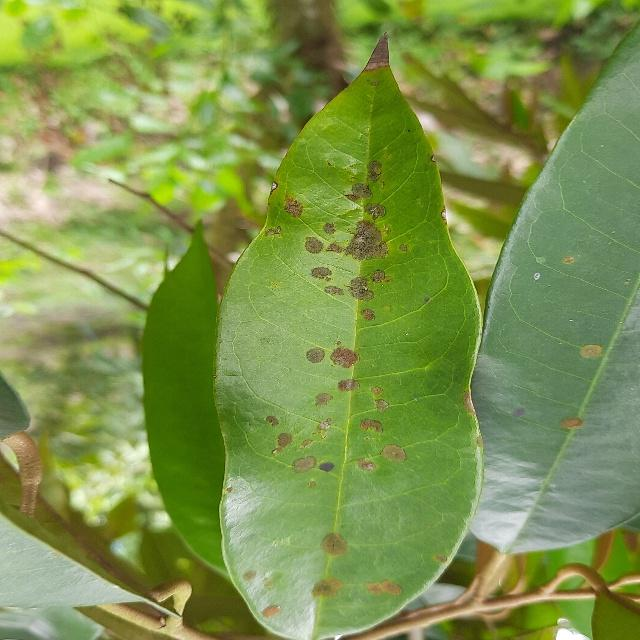Algal Leaf Spot: (203, 24, 487, 640)
